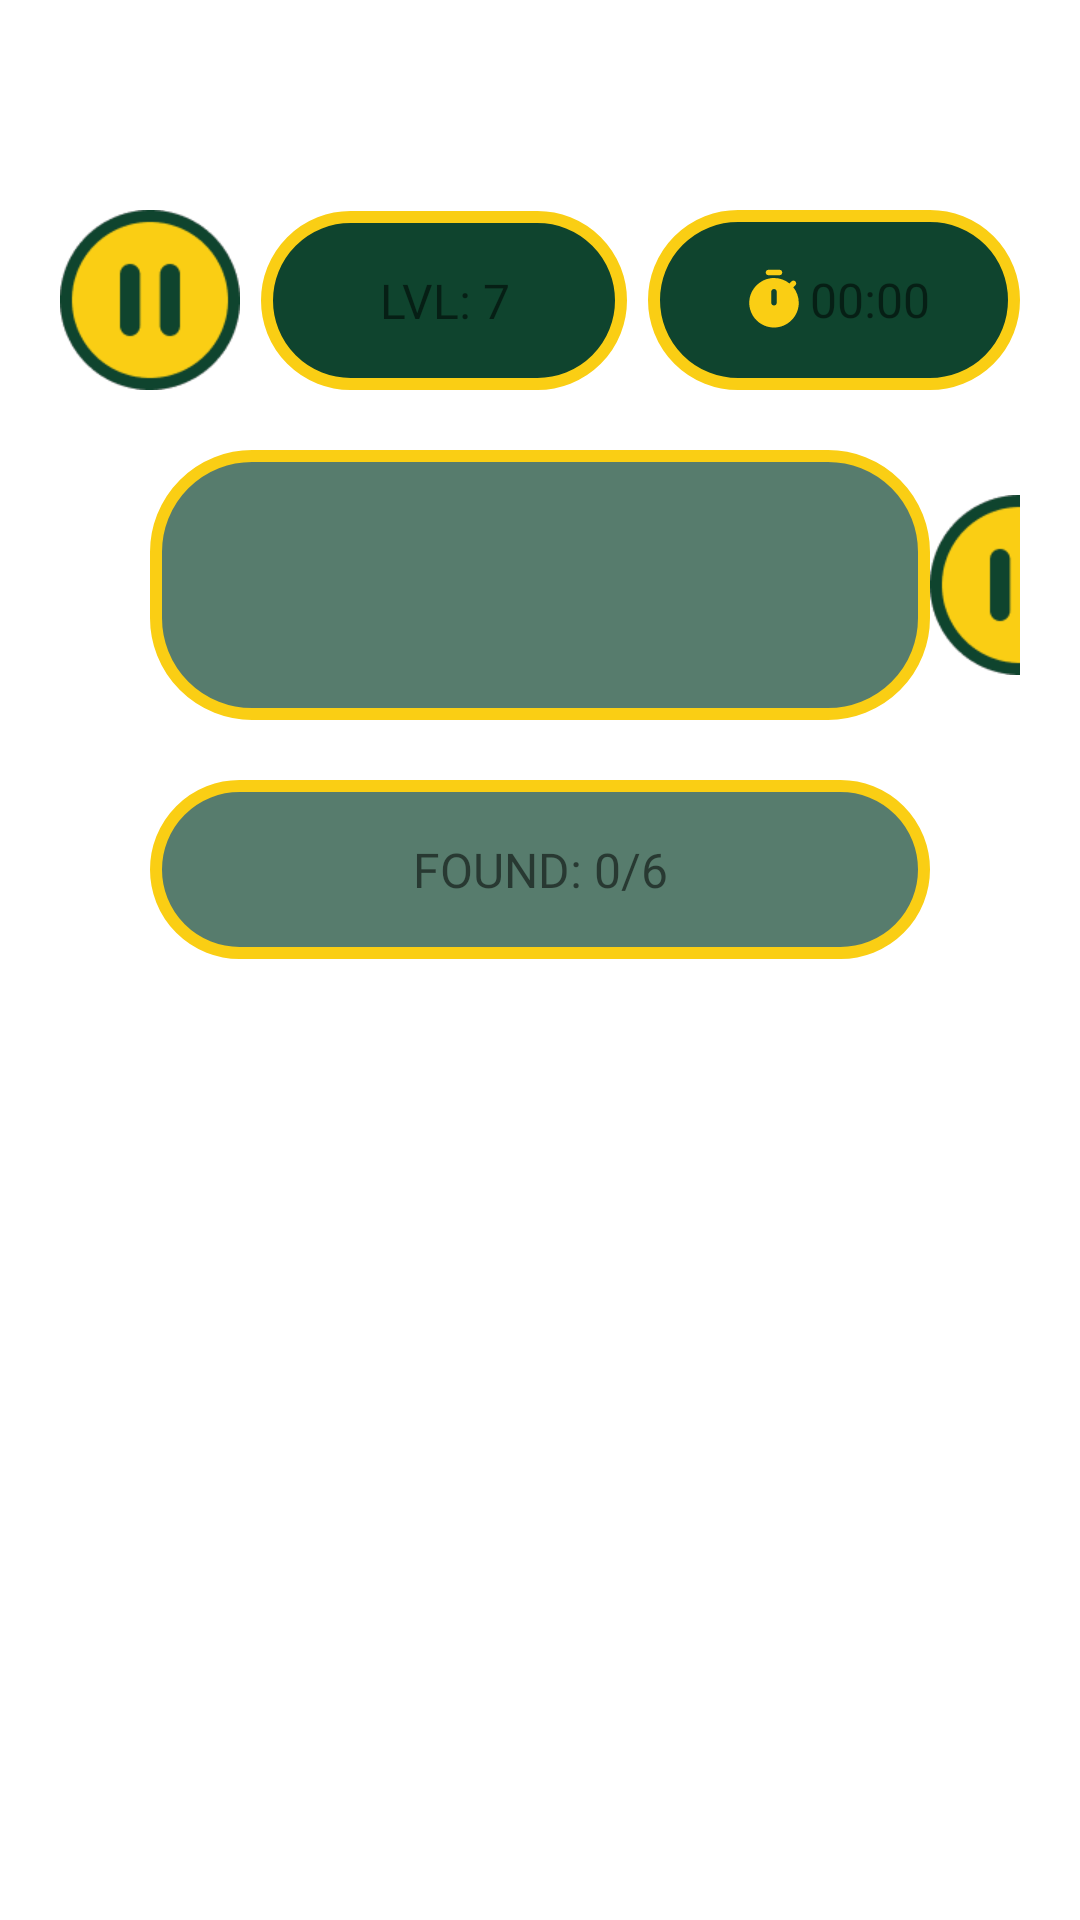

Named icons in this screenshot (1080 × 1920) and their bounding boxes, (left=x1, top=y1, right=x2, bottom=y2):
timer: (left=749, top=269, right=799, bottom=328)
